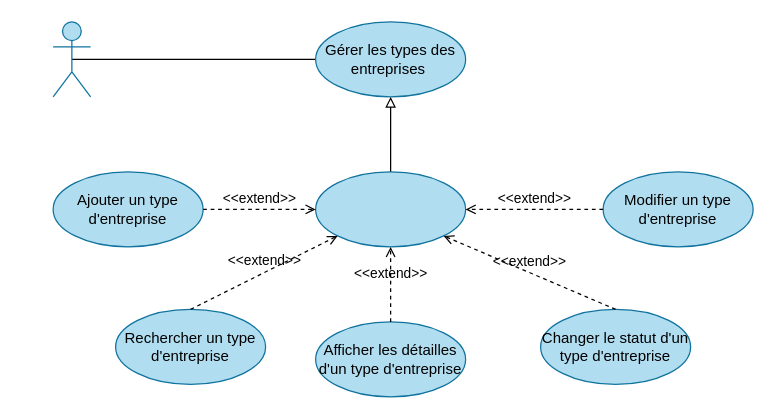
Some shapes in this 775 by 419 pixel diagram are drawn without their labels. Each missing label, with the box of its shape:
Administrateur: (52, 21, 91, 97)
Consulter les types des entrprises: (314, 171, 466, 247)
